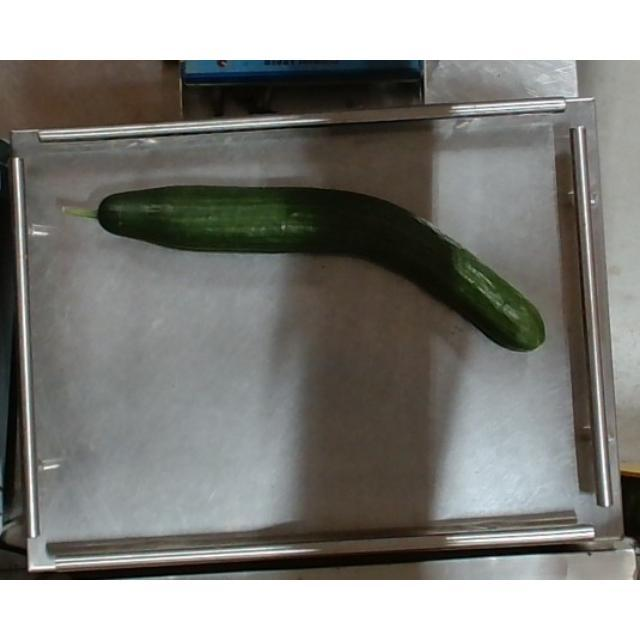cucumber: (92, 190, 546, 352)
